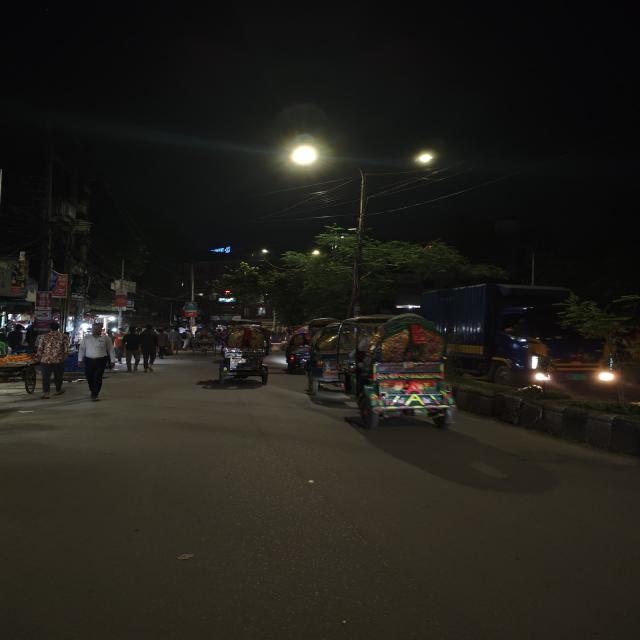pedestrian: (75, 323, 118, 401), (30, 320, 71, 398), (1, 321, 33, 392), (120, 323, 144, 373), (138, 323, 159, 373)
rickshaw: (350, 312, 463, 433), (302, 316, 368, 400), (213, 323, 274, 385), (281, 328, 312, 373), (188, 326, 216, 357)
truck: (426, 276, 618, 394)
